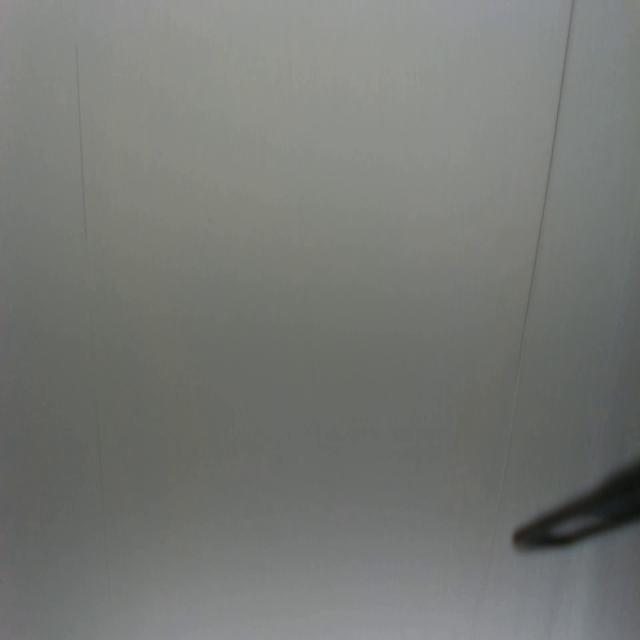crease: (499, 2, 576, 496), (74, 40, 89, 248), (478, 505, 502, 608), (95, 401, 106, 475)
